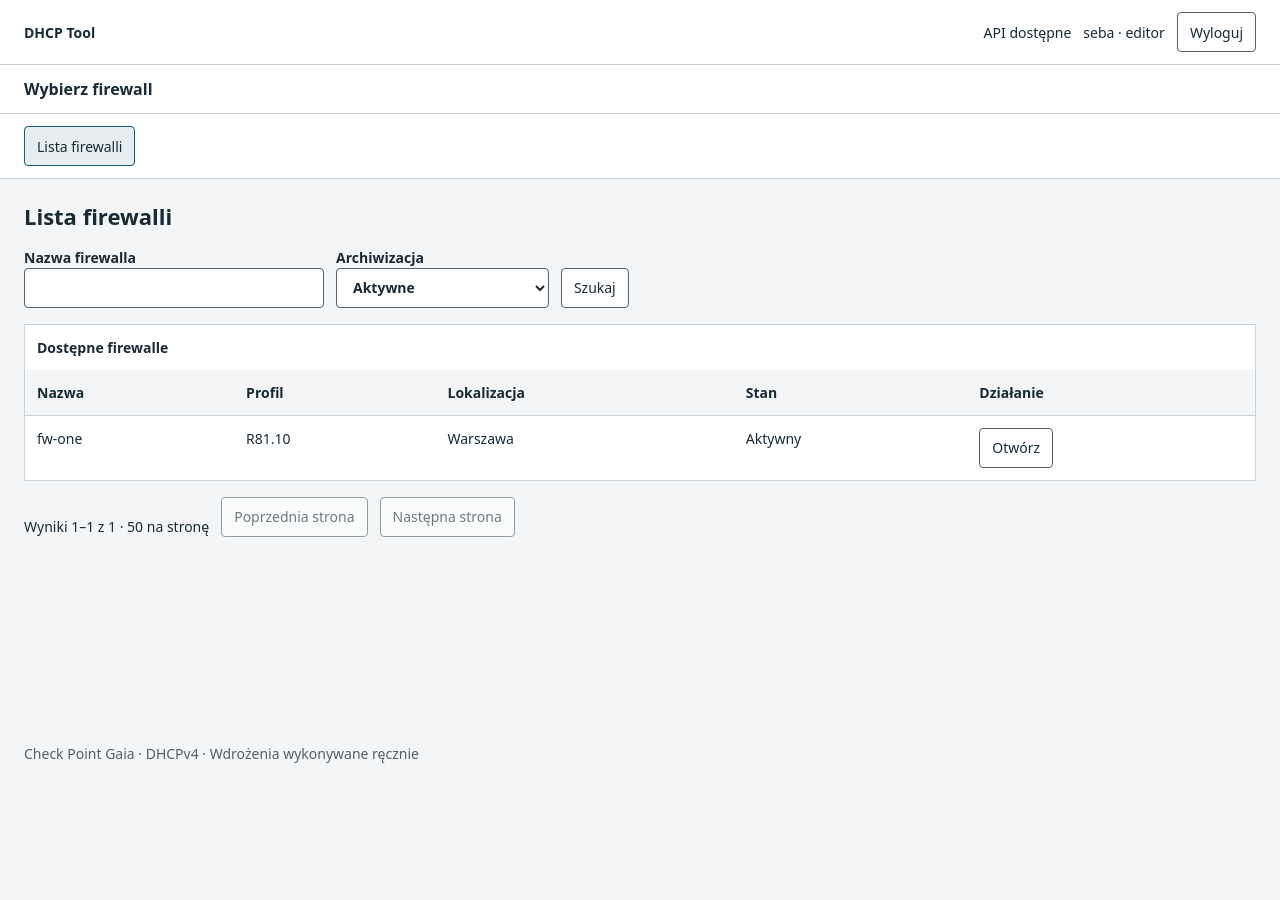
Test: clears a previous preview when the next validation fails
The image size is (1280, 900).
Step 1. Click the button with aria-label "Otwórz fw-one" → (1016, 448), box x1=979 y1=428 x2=1053 y2=468
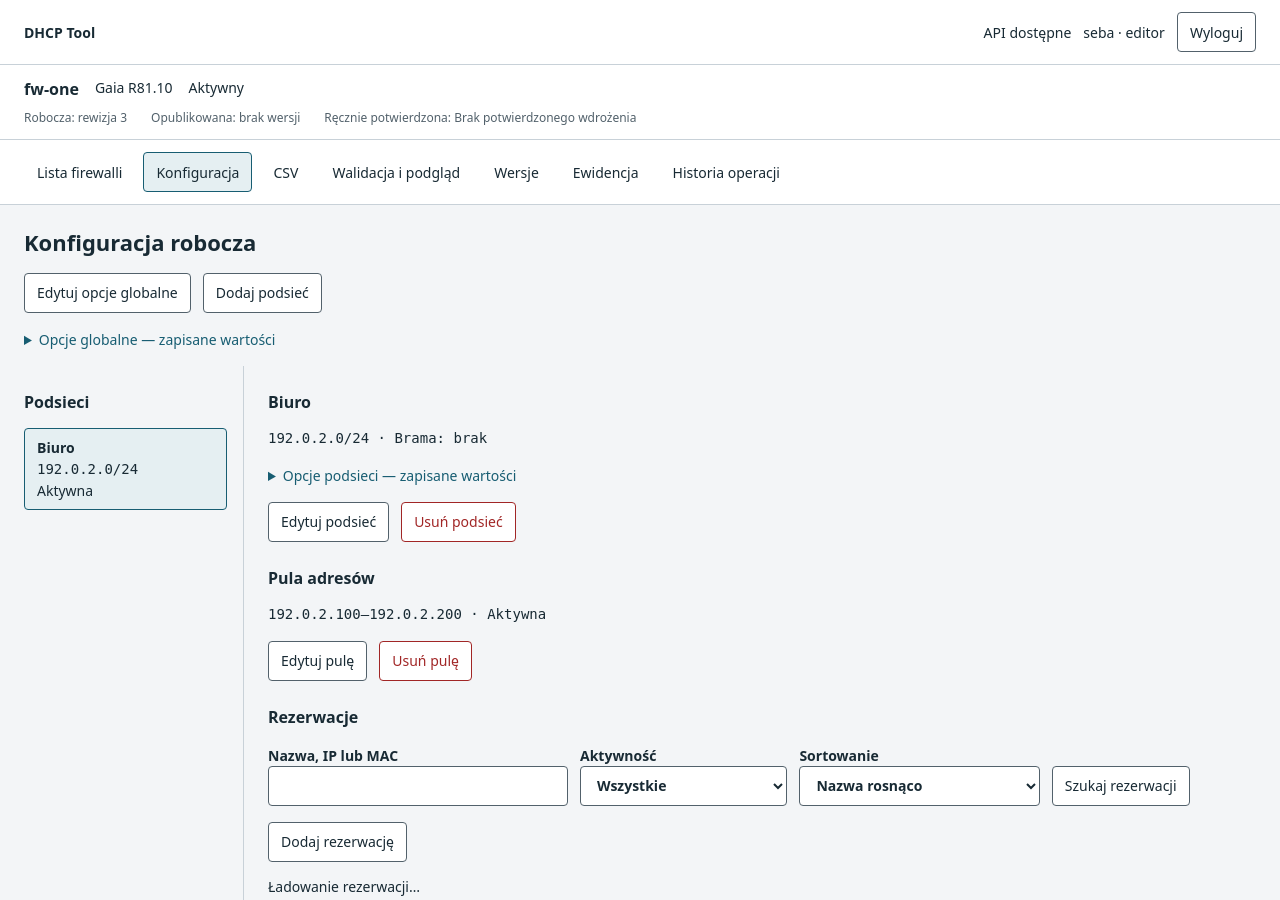
Expected: the heading "Konfiguracja robocza" is shown, x1=24 y1=227 x2=256 y2=257
Step 2. Click the button "Walidacja i podgląd" → (396, 172), box x1=319 y1=152 x2=473 y2=192
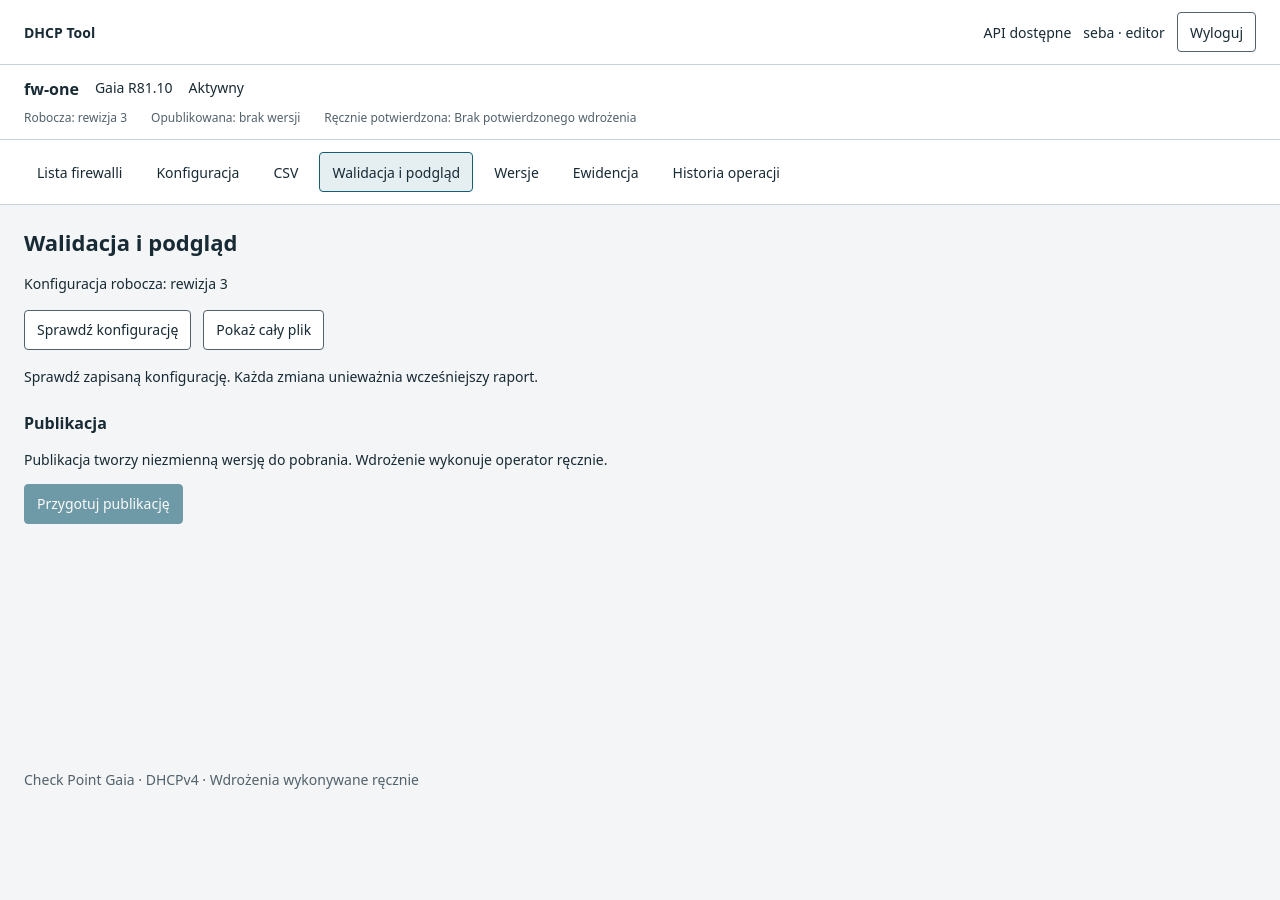
Step 3. Click the button "Pokaż cały plik" → (264, 330), box x1=203 y1=310 x2=324 y2=350
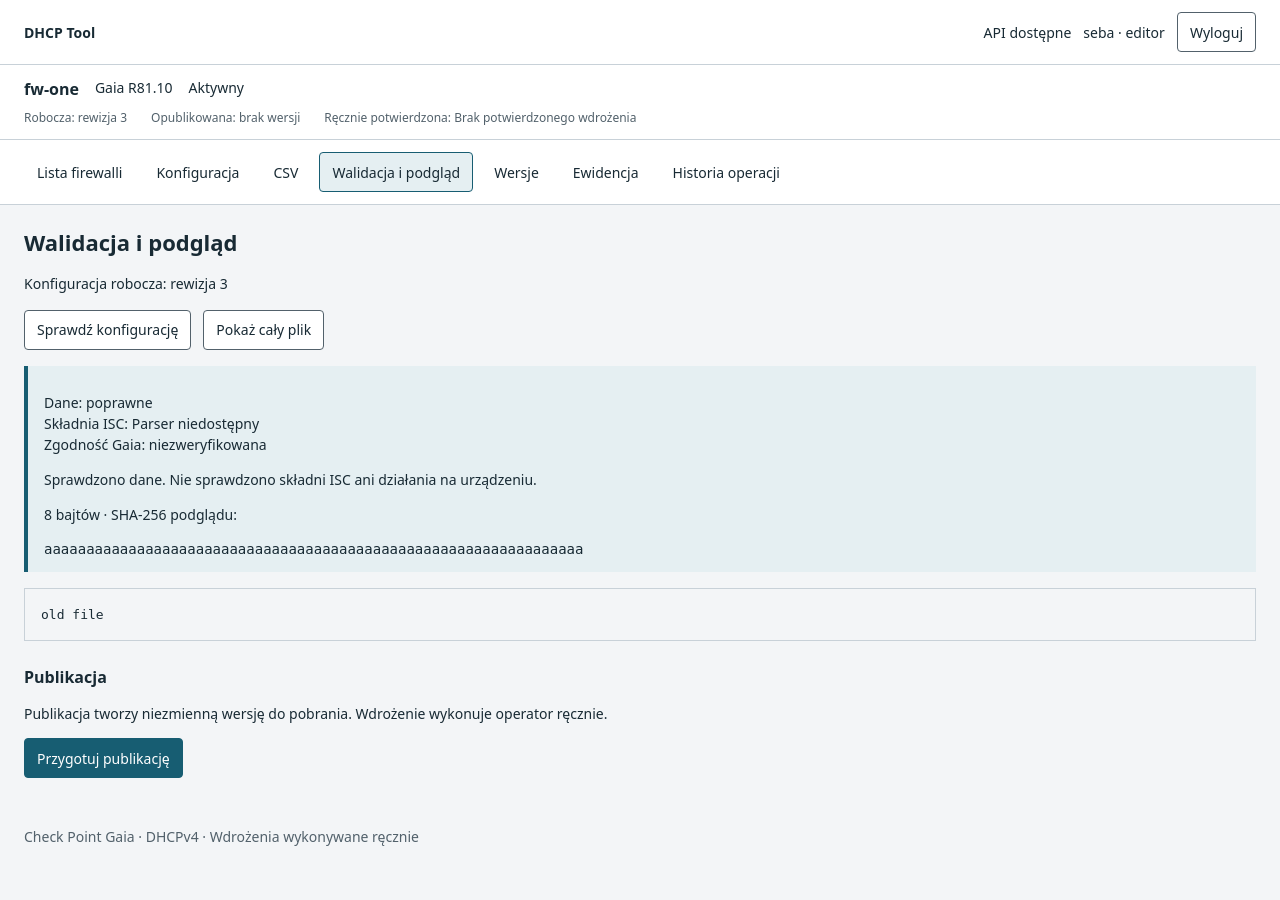
Expected: the text "old file" is shown, x1=24 y1=588 x2=1256 y2=641
Step 4. Click the button "Pokaż cały plik" → (264, 330), box x1=203 y1=310 x2=324 y2=350
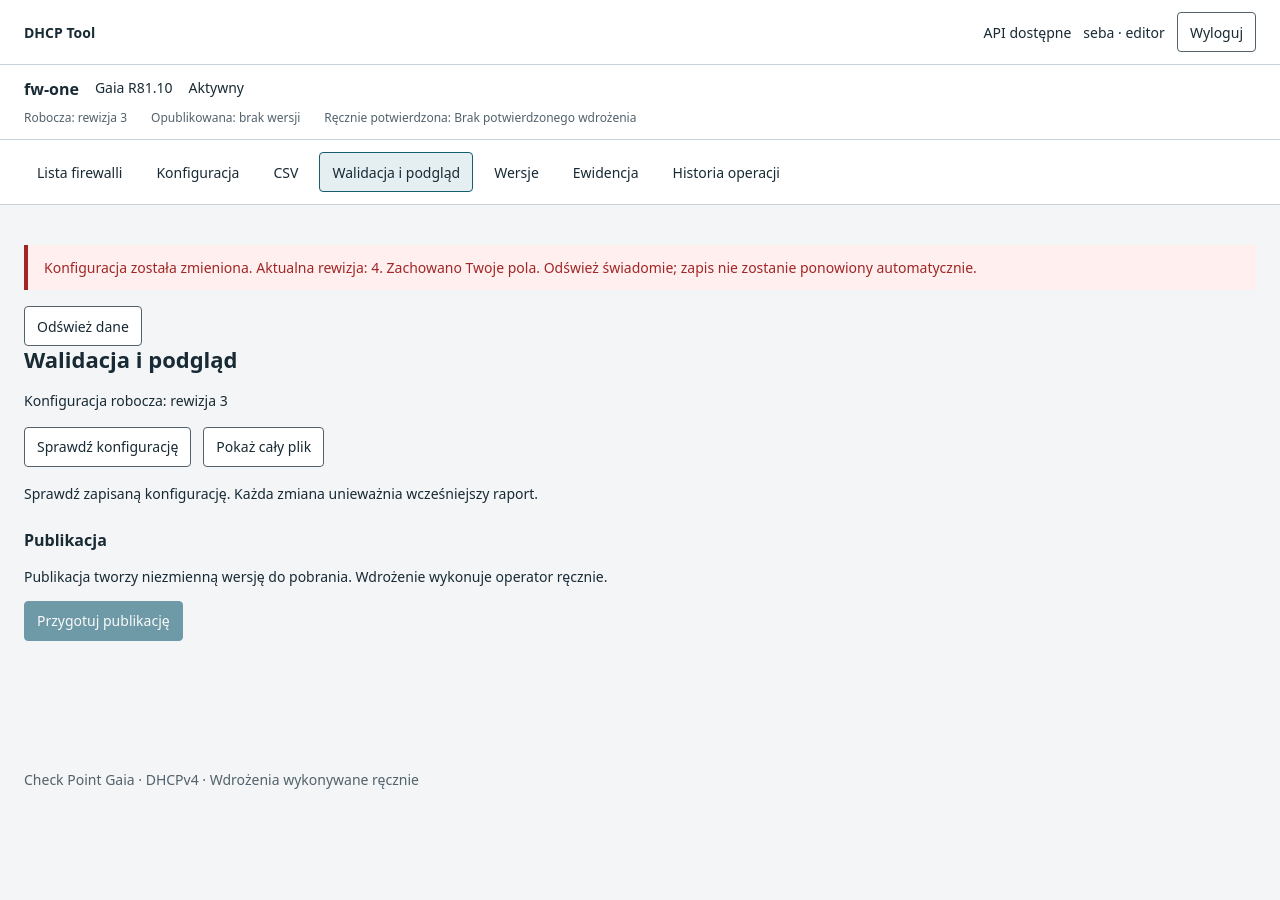
Expected: the 2nd message is shown, x1=24 y1=245 x2=1256 y2=290
Expected: the text "old file" is gone
Expected: the button "Przygotuj publikację" is disabled, x1=24 y1=600 x2=183 y2=640
